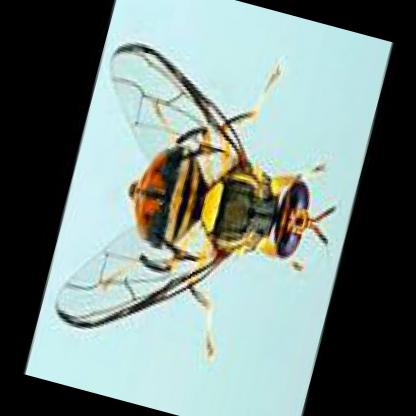fruit fly: (53, 44, 334, 330)
